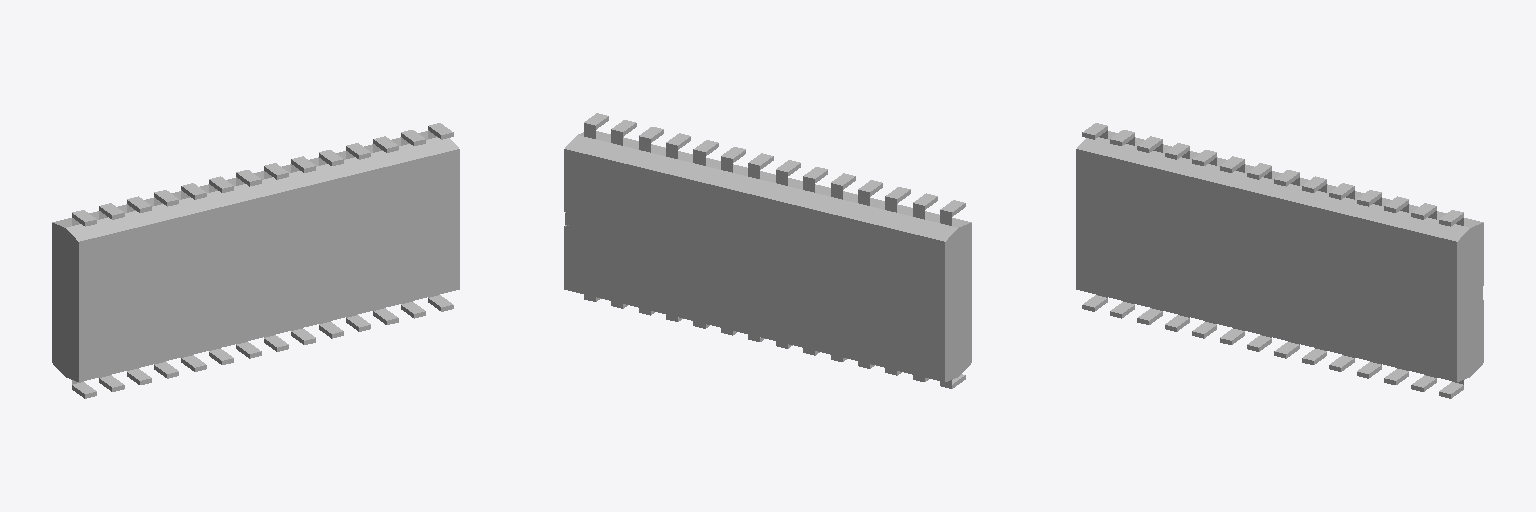
The model's file is DIL-28-6.obj.
The picture shows the model from 3 angles: view 1: azimuth 30°, elevation 25°; view 2: azimuth 150°, elevation 25°; view 3: azimuth 330°, elevation 25°; orthographic projection.
Parts seen in each view (by area): view 1: ShapeIndexedFaceSet.002_ShapeIndexedFaceSet.003; view 2: ShapeIndexedFaceSet.002_ShapeIndexedFaceSet.003, ShapeIndexedFaceSet_ShapeIndexedFaceSet.001; view 3: ShapeIndexedFaceSet.002_ShapeIndexedFaceSet.003.
Part boxes in pixels (bbox=[...]): ShapeIndexedFaceSet.002_ShapeIndexedFaceSet.003: bbox=[52, 131, 459, 381]; ShapeIndexedFaceSet.002_ShapeIndexedFaceSet.003: bbox=[564, 131, 971, 381]; ShapeIndexedFaceSet_ShapeIndexedFaceSet.001: bbox=[576, 200, 688, 271]; ShapeIndexedFaceSet.002_ShapeIndexedFaceSet.003: bbox=[1076, 131, 1483, 381].
Bounding box in the file's own units: 35.31 × 15.64 × 4.26.